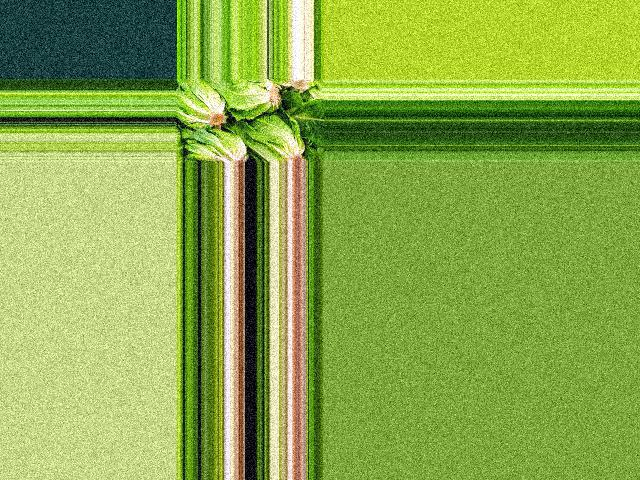lettuce: (290, 99, 325, 133)
